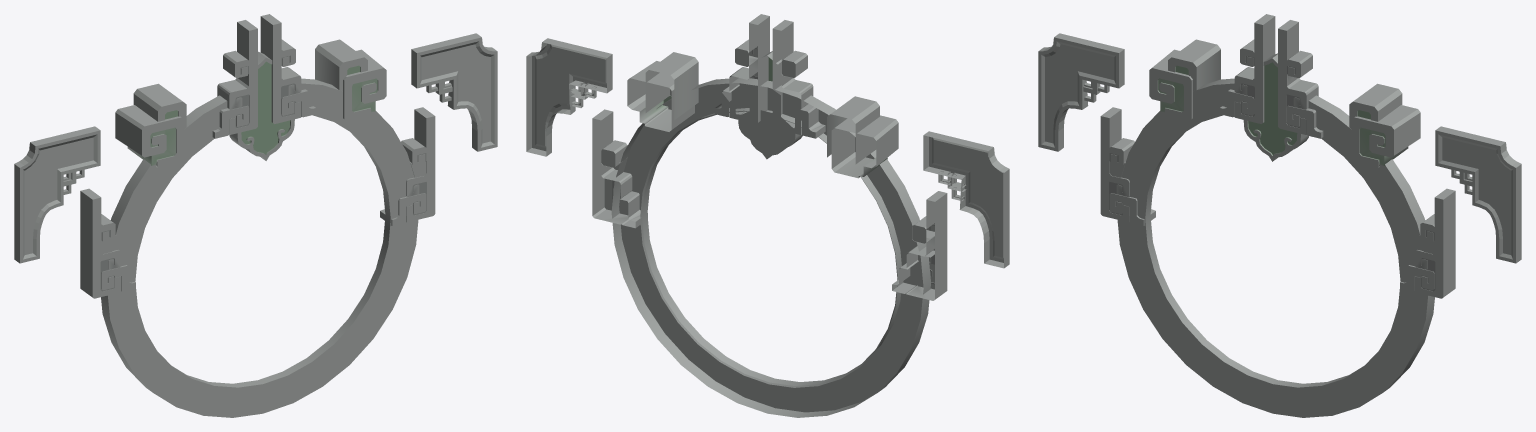
The picture shows the model from 3 angles, left to right: view 1: azimuth 30°, elevation 25°; view 2: azimuth 150°, elevation 25°; view 3: azimuth 330°, elevation 25°; orthographic projection.
Parts seen in each view (by area): view 1: G:\FFXIV-MapTools\exports\e3f2\bg\ex2\02_est_e3\fld\e3f2\bgp (×3); view 2: G:\FFXIV-MapTools\exports\e3f2\bg\ex2\02_est_e3\fld\e3f2\bgp (×3); view 3: G:\FFXIV-MapTools\exports\e3f2\bg\ex2\02_est_e3\fld\e3f2\bgp (×3).
Part boxes in pixels (left/top/right/bottom): G:\FFXIV-MapTools\exports\e3f2\bg\ex2\02_est_e3\fld\e3f2\bgp (×3): left=14, top=14, right=497, bottom=417; G:\FFXIV-MapTools\exports\e3f2\bg\ex2\02_est_e3\fld\e3f2\bgp (×3): left=526, top=14, right=1009, bottom=417; G:\FFXIV-MapTools\exports\e3f2\bg\ex2\02_est_e3\fld\e3f2\bgp (×3): left=1038, top=14, right=1521, bottom=417.
Bounding box in the file's own units: 33.59 × 26.1 × 3.3.
